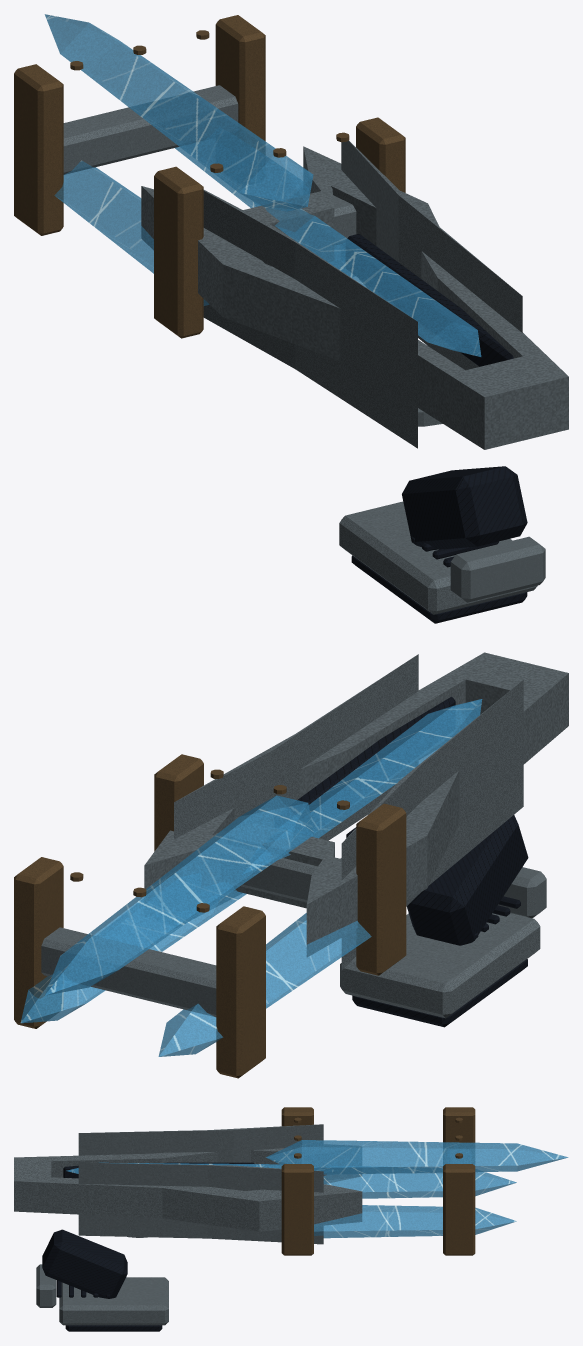
Rendered from rime-focus-stowed.glb.
The picture shows the model from 3 angles, top to bottom: view 1: azimuth 30°, elevation 25°; view 2: azimuth 150°, elevation 25°; view 3: azimuth 270°, elevation 25°; orthographic projection. The views are drawn at different scales.
Parts seen in each view (by area): view 1: Sculpted open silver receiver, Swept receiver fin, Independent ice cartridge, Swept receiver fin.001, Cartridge clamp bridge.001, Angled slate pistol grip, Rear dorsal ice conduit, Locking cartridge side bracket.002, Locking cartridge side bracket, Hip docking socket, Slate receiver spine.001, Independent ice cartridge.001 (+5 smaller); view 2: Sculpted open silver receiver, Independent ice cartridge, Swept receiver fin.001, Swept receiver fin, Hip docking socket, Cartridge clamp bridge.001, Locking cartridge side bracket, Locking cartridge side bracket.002, Angled slate pistol grip, Rear dorsal ice conduit, Independent ice cartridge.001, Locking cartridge side bracket.003 (+6 smaller); view 3: Sculpted open silver receiver, Swept receiver fin.001, Independent ice cartridge, Swept receiver fin, Hip docking socket, Independent ice cartridge.002, Angled slate pistol grip, Independent ice cartridge.001, Locking cartridge side bracket.003, Locking cartridge side bracket.001, Locking cartridge side bracket.002, Silver flared grip heel (+4 smaller).
Part boxes in pixels (x1,y1,x2,y2): Sculpted open silver receiver: (141,146,568,449); Swept receiver fin: (203,190,417,448); Independent ice cartridge: (44,14,313,211); Swept receiver fin.001: (341,140,522,370); Cartridge clamp bridge.001: (63,85,238,174); Angled slate pistol grip: (402,466,527,549); Rear dorsal ice conduit: (241,181,481,356); Locking cartridge side bracket.002: (14,64,63,235); Locking cartridge side bracket: (154,166,203,338); Hip docking socket: (339,501,537,614); Slate receiver spine.001: (346,233,513,366); Independent ice cartridge.001: (54,160,209,305); Sculpted open silver receiver: (144,652,568,957); Independent ice cartridge: (45,795,313,995); Swept receiver fin.001: (174,654,418,917); Swept receiver fin: (341,680,523,970); Hip docking socket: (340,913,540,1018); Cartridge clamp bridge.001: (41,927,216,1017); Locking cartridge side bracket: (356,803,406,975); Locking cartridge side bracket.002: (216,906,265,1078); Angled slate pistol grip: (407,815,528,945); Rear dorsal ice conduit: (241,699,482,874); Independent ice cartridge.001: (158,913,371,1056); Locking cartridge side bracket.003: (14,857,63,1028); Sculpted open silver receiver: (14,1145,362,1231); Swept receiver fin.001: (78,1162,323,1244); Independent ice cartridge: (266,1140,568,1174); Swept receiver fin: (78,1124,323,1162); Hip docking socket: (59,1277,168,1325); Independent ice cartridge.002: (314,1205,516,1238); Angled slate pistol grip: (42,1229,127,1298); Independent ice cartridge.001: (323,1172,516,1198); Locking cartridge side bracket.003: (443,1164,475,1255); Locking cartridge side bracket.001: (281,1164,313,1255); Locking cartridge side bracket.002: (443,1107,475,1165); Silver flared grip heel: (36,1264,56,1307).
Size of the model in its own units: 0.2355 by 0.312 by 0.86.
4 materials, 4 textured.
